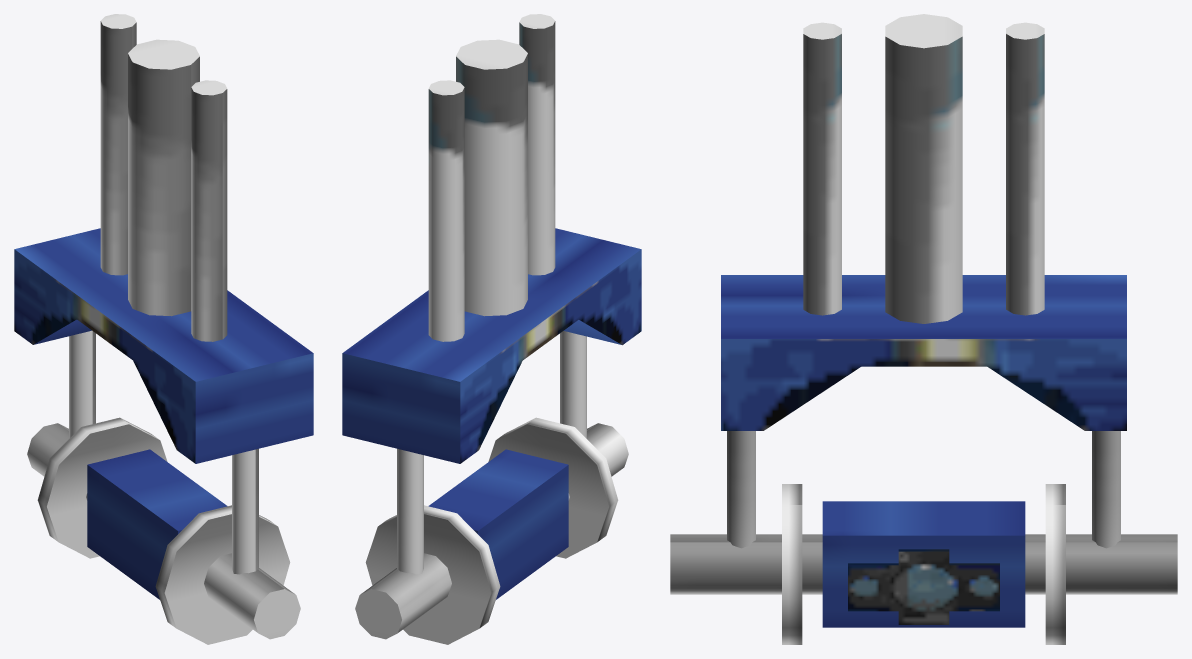
The model's file is seccam.FBX.
The picture shows the model from 3 angles, left to right: view 1: azimuth 30°, elevation 25°; view 2: azimuth 150°, elevation 25°; view 3: azimuth 270°, elevation 25°; orthographic projection. The views are drawn at different scales.
Parts seen in each view (by area): view 1: seccam; view 2: seccam; view 3: seccam.
Boxes of the visible parts, <box> form: seccam: <box>14,14,313,644</box>; seccam: <box>342,14,641,644</box>; seccam: <box>670,14,1177,644</box>.
Bounding box in the file's own units: 48 × 150 × 197.
Materials: 1 (1 with a texture image).
